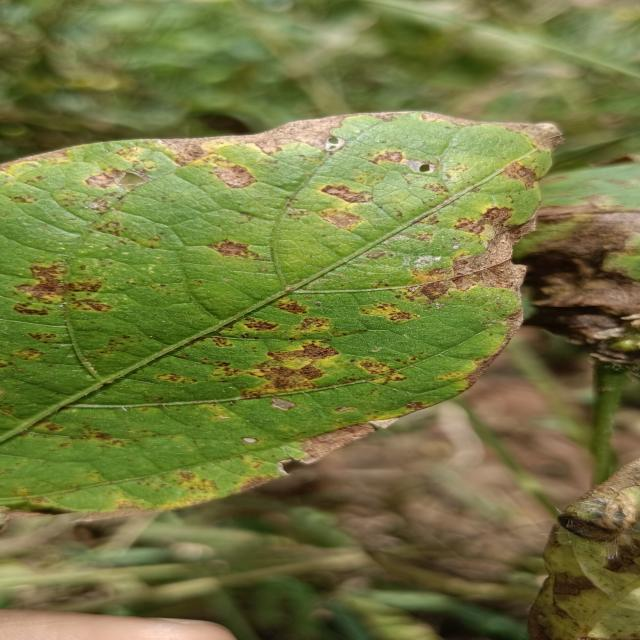Black gram_leaf spot: (0, 106, 571, 524)
